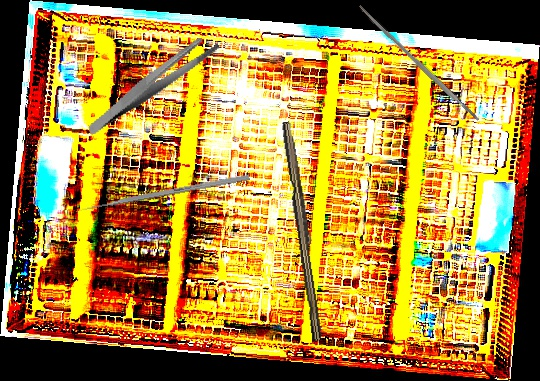Dressing Forceps: (72, 32, 233, 136)
Pusher: (73, 173, 250, 215)
Scalpel Handle: (356, 3, 481, 124), (278, 120, 329, 342)
